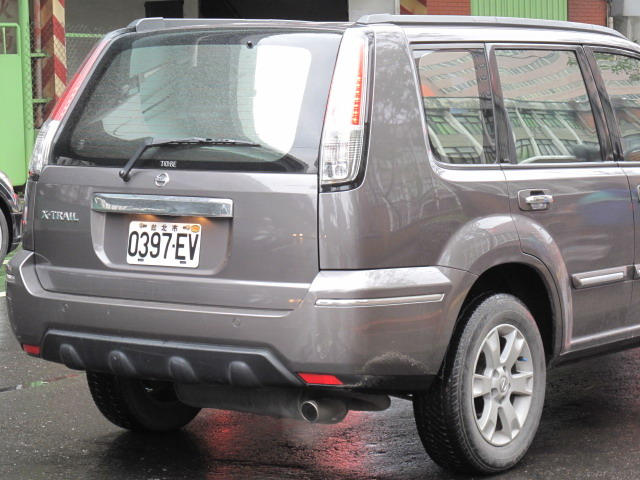plate: (124, 218, 205, 268)
